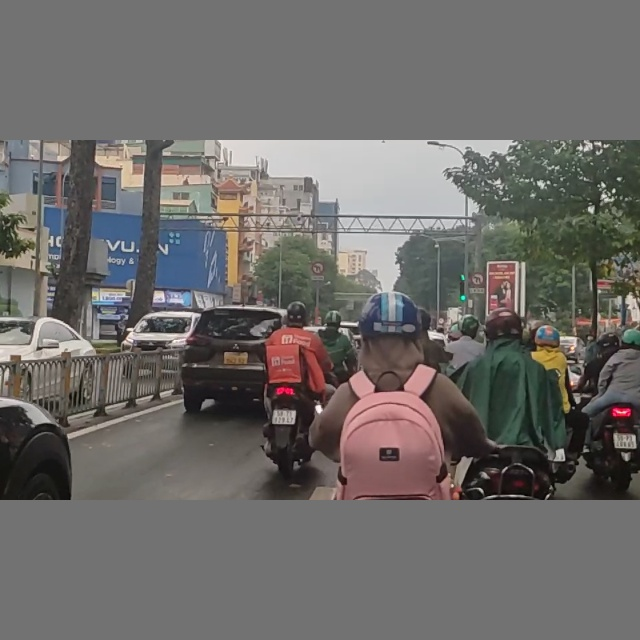P.124c: (311, 261, 325, 274), (471, 273, 484, 286)
